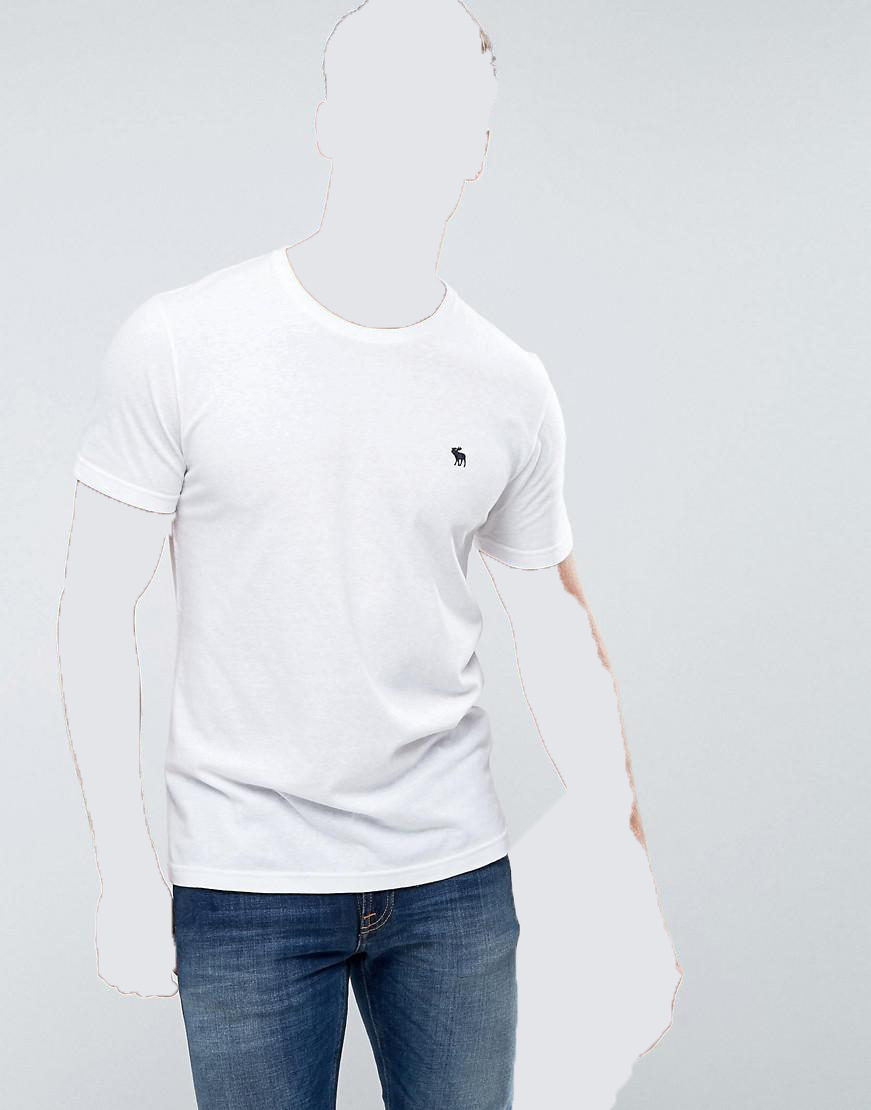teeshirt: (68, 242, 613, 918)
